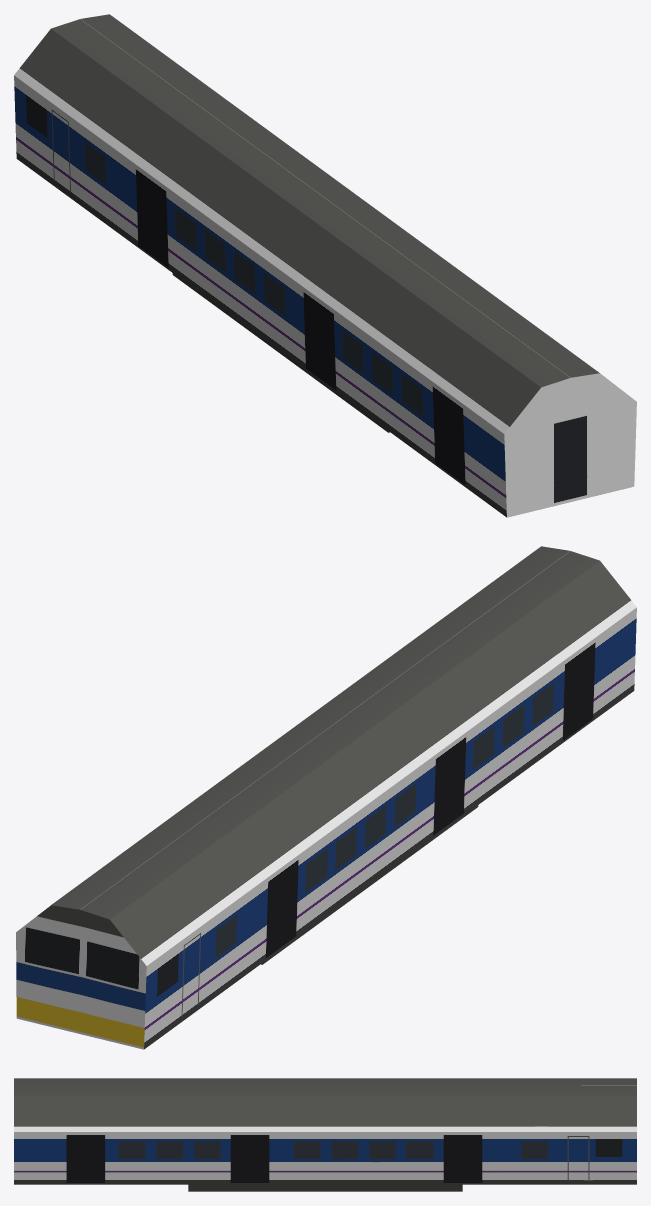
Rendered from emu_ac_cab_lod2.glb.
3 renders of one model, top to bottom at view 1: azimuth 30°, elevation 25°; view 2: azimuth 150°, elevation 25°; view 3: azimuth 270°, elevation 25°, orthographic. The views are drawn at different scales.
Parts seen in each view (by area): view 1: body; view 2: body; view 3: body.
Boxes of the visible parts, box(x1,y1,x2,y2) form: body: box(14, 14, 636, 517); body: box(16, 546, 636, 1049); body: box(14, 1078, 636, 1191).
Size of the model in its own units: 3.25 by 3.38 by 20.8.
Materials: 2 (2 with a texture image).
